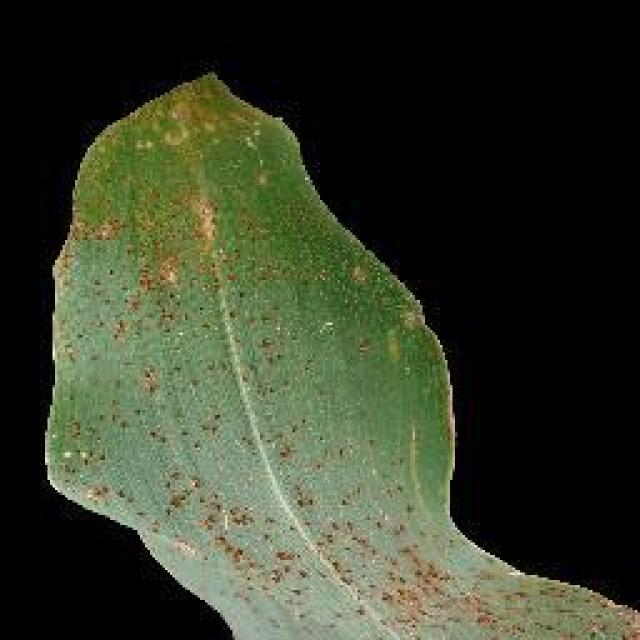Corn Common Rust: (70, 185, 477, 595)
